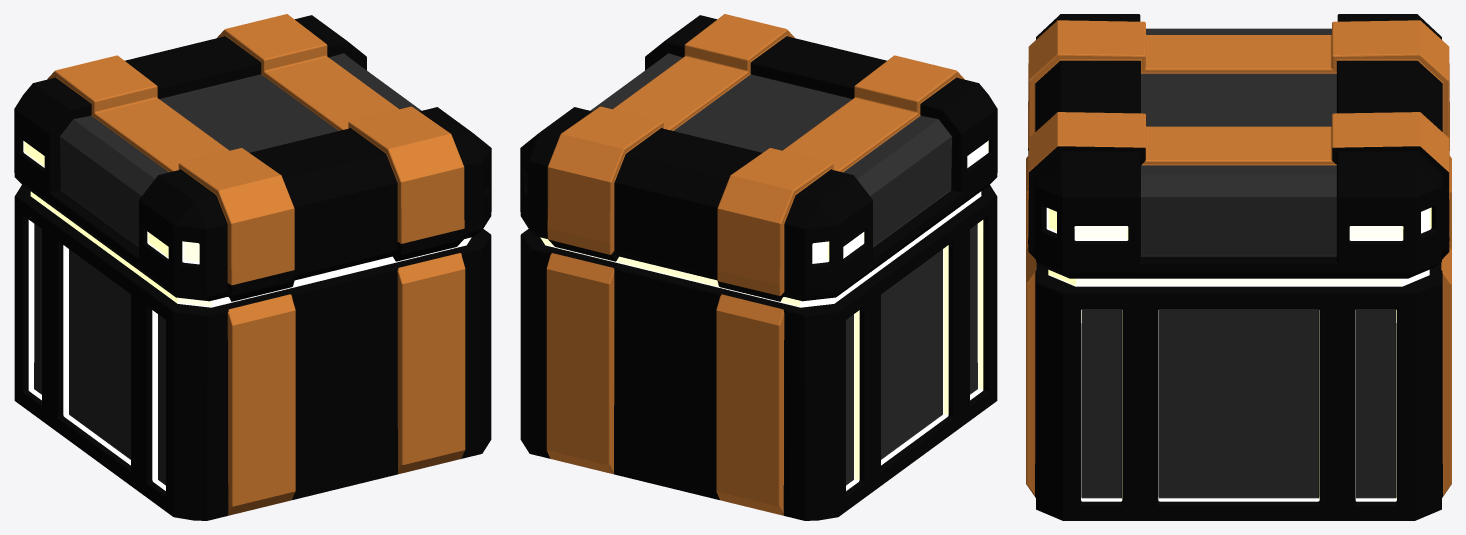
3 views of the same model, side by side, from view 1: azimuth 30°, elevation 25°; view 2: azimuth 150°, elevation 25°; view 3: azimuth 270°, elevation 25° (orthographic). The views are drawn at different scales.
Visible parts, largest first — view 1: Cube_NEGRO2_0, Cube_Naranja_0, Cube_Negro metal_0, Cube_Emission_0; view 2: Cube_NEGRO2_0, Cube_Naranja_0, Cube_Negro metal_0, Cube_Emission_0; view 3: Cube_NEGRO2_0, Cube_Negro metal_0, Cube_Naranja_0, Cube_Emission_0.
Part boxes in pixels (x1,y1,x2,y2): Cube_NEGRO2_0: [14, 15, 491, 520]; Cube_Naranja_0: [47, 14, 465, 515]; Cube_Negro metal_0: [34, 53, 421, 485]; Cube_Emission_0: [23, 141, 471, 490]; Cube_NEGRO2_0: [520, 15, 997, 520]; Cube_Naranja_0: [546, 14, 964, 515]; Cube_Negro metal_0: [590, 53, 977, 485]; Cube_Emission_0: [540, 140, 988, 490]; Cube_NEGRO2_0: [1028, 14, 1449, 520]; Cube_Negro metal_0: [1081, 28, 1396, 498]; Cube_Naranja_0: [1026, 20, 1451, 497]; Cube_Emission_0: [1046, 207, 1431, 501].
Bounding box in the file's own units: 200 × 196 × 210.
